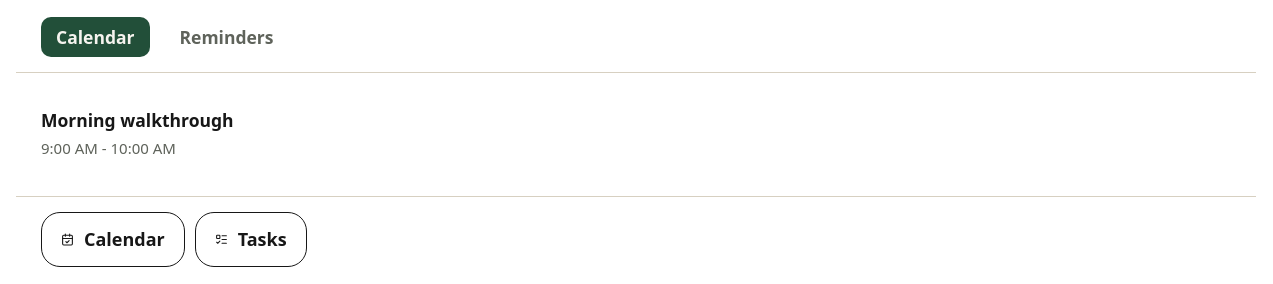
TodaySignalsCard › renders reminder errors instead of the empty state
Step 1. Click the tab "Reminders" → (226, 37), box x1=164 y1=17 x2=288 y2=57
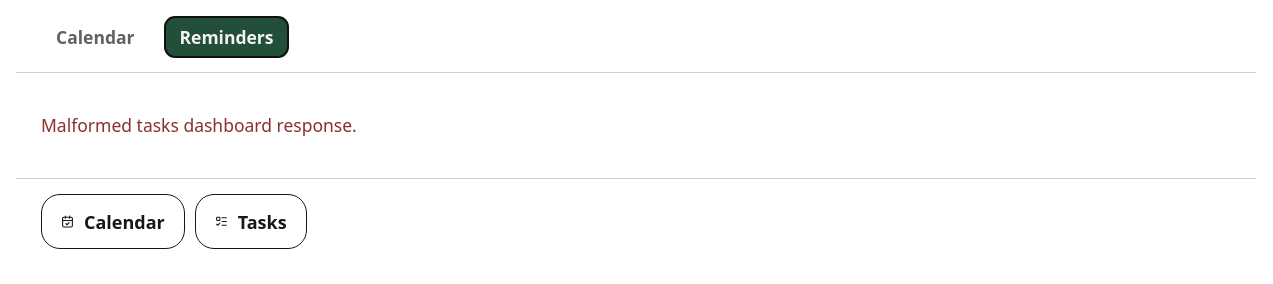
Check: the text "Malformed tasks dashboard response." is shown, box x1=41 y1=113 x2=357 y2=137
